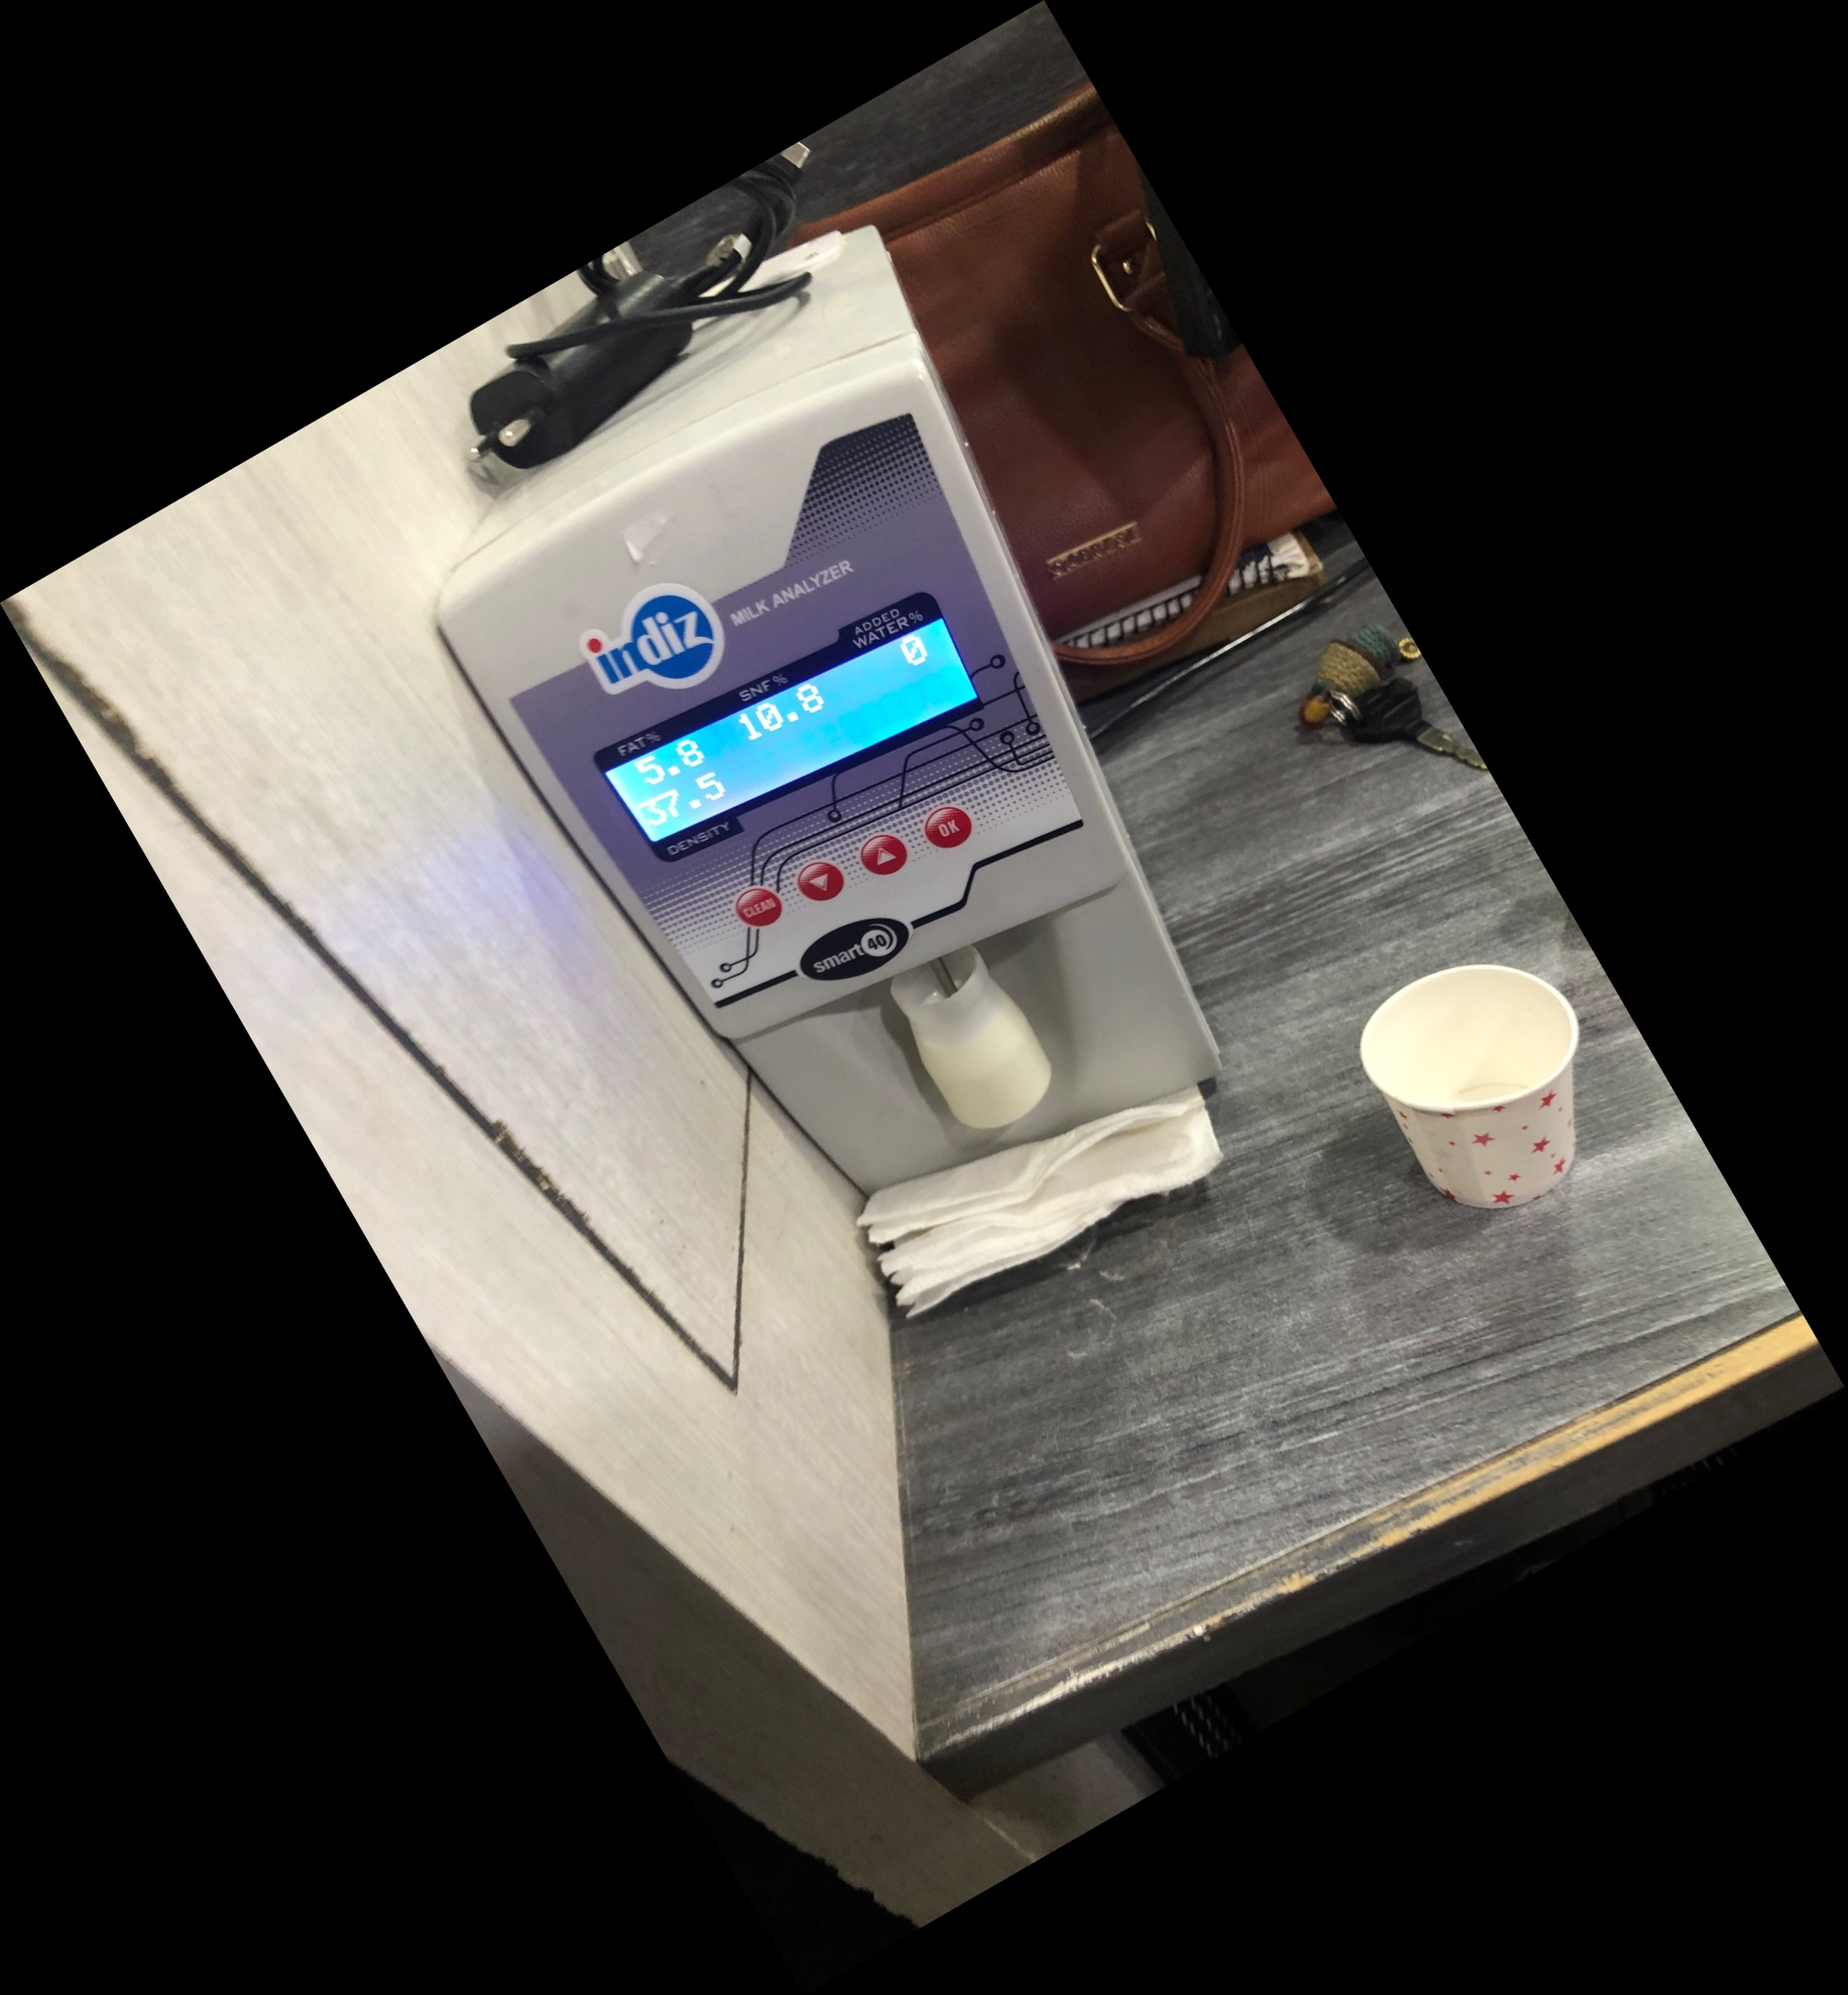lcd: (596, 572, 985, 911)
